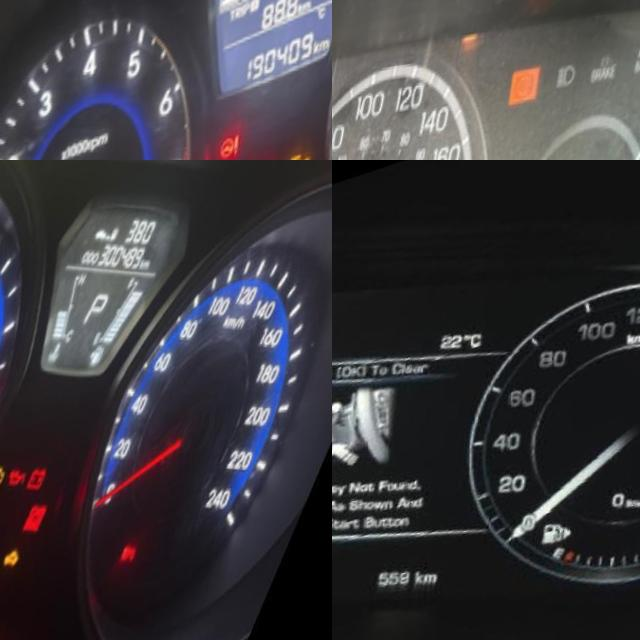Low fuel level: (543, 521, 584, 562)
security: (19, 555, 45, 581)
